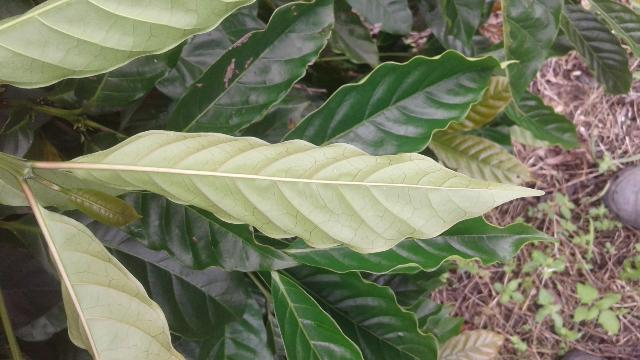healthy: (58, 130, 544, 250)
